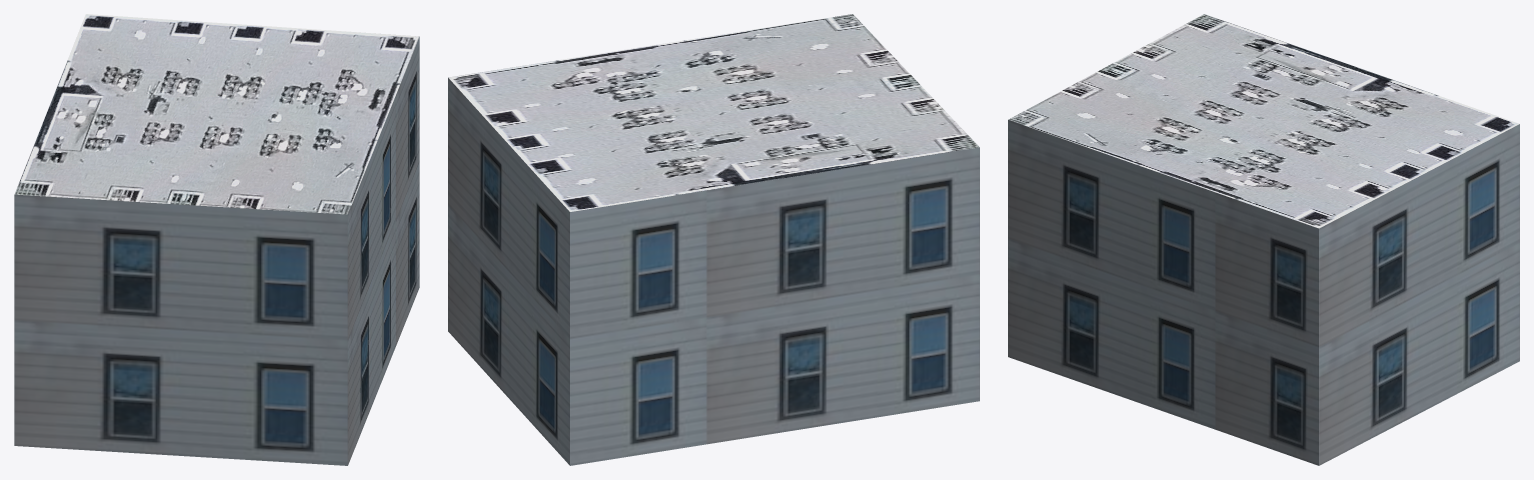
Rendered from ResTex__2134.fbx.
3 views of the same model, side by side, from view 1: azimuth 30°, elevation 25°; view 2: azimuth 150°, elevation 25°; view 3: azimuth 270°, elevation 25° (orthographic). The views are drawn at different scales.
Parts seen in each view (by area): view 1: CityEngineMaterial_18_m, CityEngineMaterial_m; view 2: CityEngineMaterial_18_m, CityEngineMaterial_m; view 3: CityEngineMaterial_18_m, CityEngineMaterial_m.
Boxes of the visible parts, x1,y1,x2,y2 form: CityEngineMaterial_18_m: (14, 37, 419, 465); CityEngineMaterial_m: (14, 14, 419, 214); CityEngineMaterial_18_m: (448, 78, 979, 465); CityEngineMaterial_m: (448, 14, 979, 211); CityEngineMaterial_18_m: (1008, 120, 1519, 465); CityEngineMaterial_m: (1008, 14, 1519, 228).
Size of the model in its own units: 11.64 by 6 by 11.73.
Materials: 2 (2 with a texture image).
